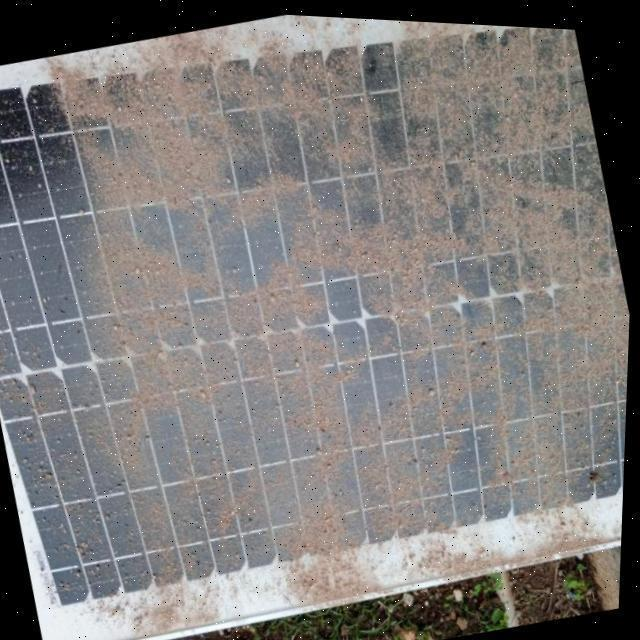Surface Contaminant: (18, 15, 632, 621)
